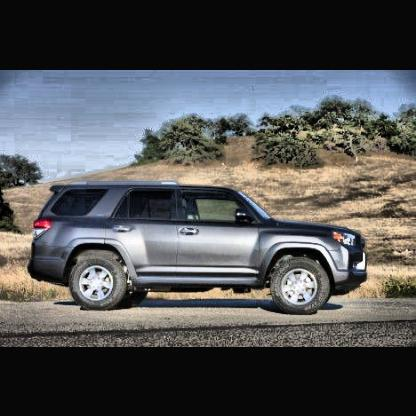Toyota 4Runner SUV 2012: (28, 181, 368, 318)
